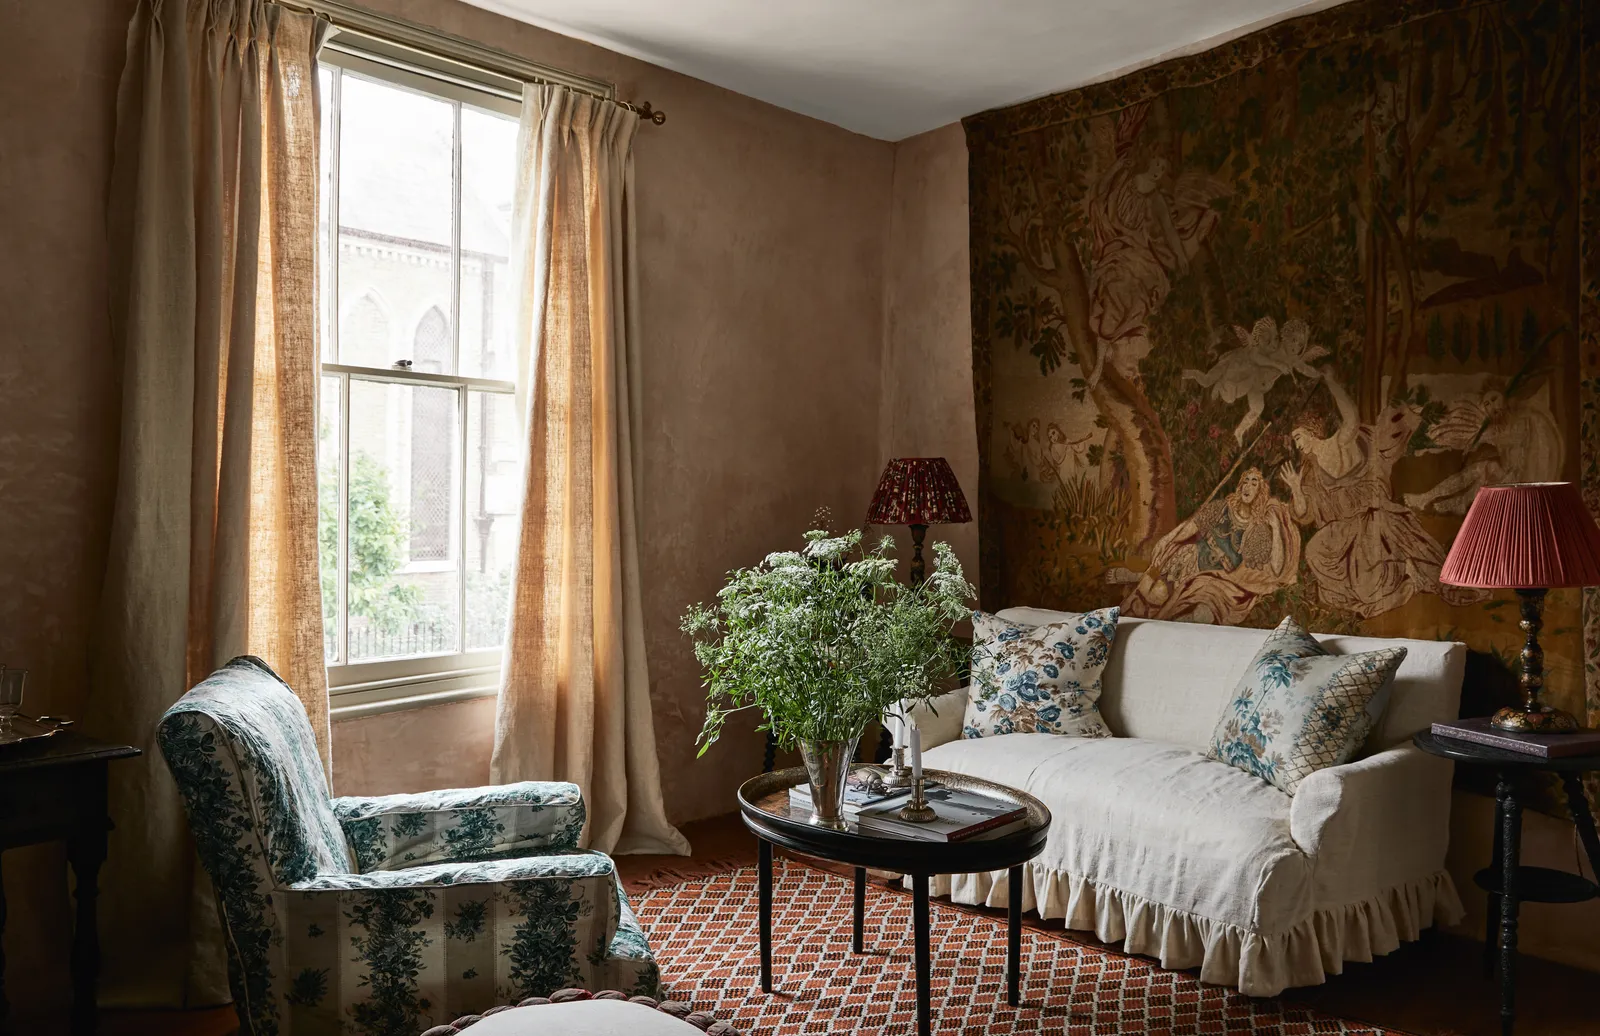chair: (153, 650, 664, 1032)
flower vase: (675, 508, 982, 827)
sofa: (870, 607, 1471, 995)
table: (732, 756, 1057, 1036)
table lamp: (1434, 477, 1600, 738), (865, 449, 977, 584)
